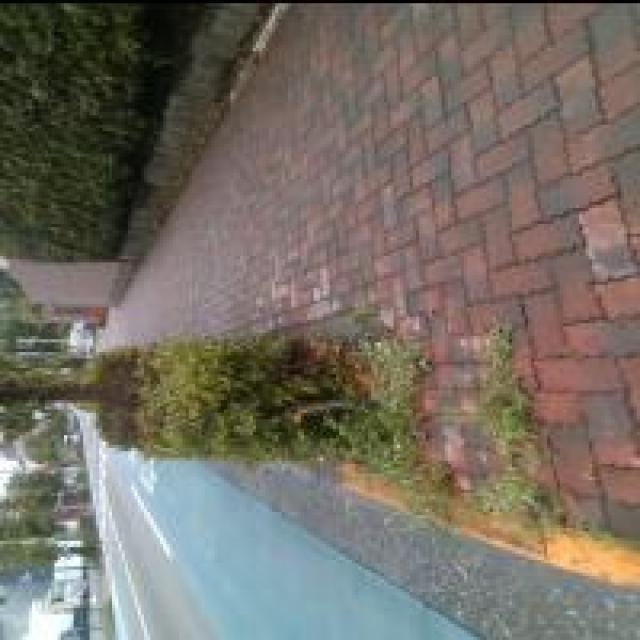Obstacle: (87, 331, 428, 463)
Road: (72, 412, 639, 639)
Sidewalk: (102, 4, 639, 539)
